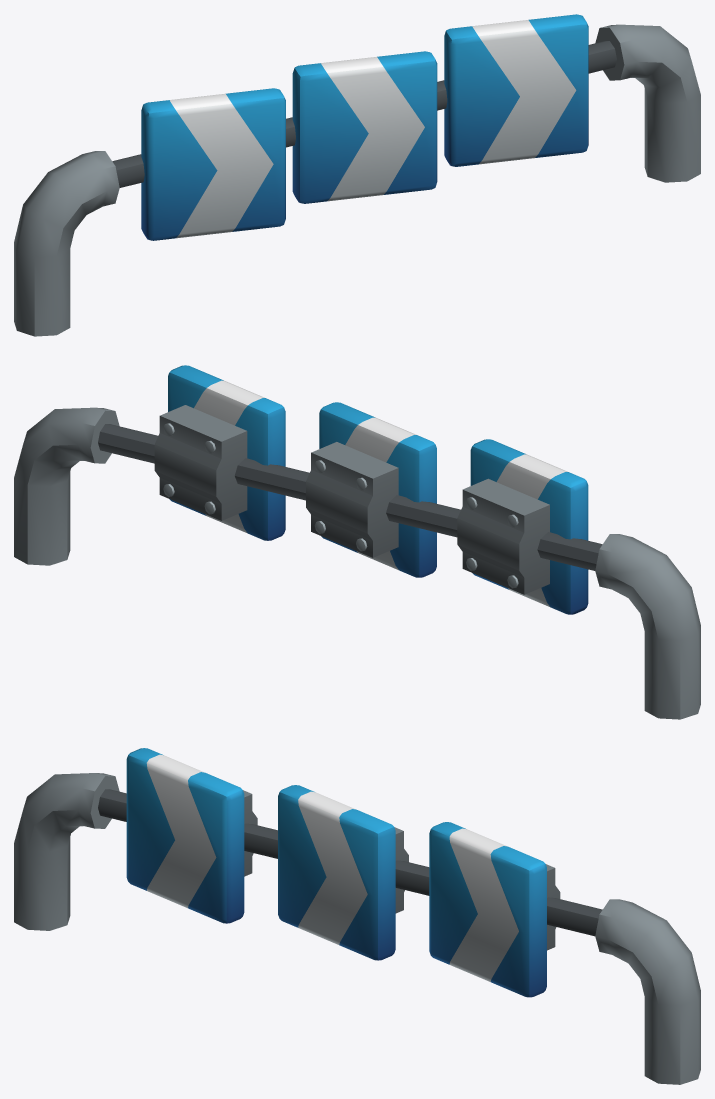
Rendered from signage_arrows_right_blue.glb.
The picture shows the model from 3 angles, top to bottom: view 1: azimuth 30°, elevation 25°; view 2: azimuth 150°, elevation 25°; view 3: azimuth 330°, elevation 25°; orthographic projection.
Visible parts, largest first — view 1: signage_arrows_right_blue; view 2: signage_arrows_right_blue; view 3: signage_arrows_right_blue.
Boxes of the visible parts, x1=… form: signage_arrows_right_blue: x1=14, y1=14, x2=700, y2=336; signage_arrows_right_blue: x1=14, y1=365, x2=700, y2=719; signage_arrows_right_blue: x1=14, y1=748, x2=700, y2=1084.
Bounding box in the file's own units: 5.4 × 1.5 × 0.6771.
1 material, 1 textured.
